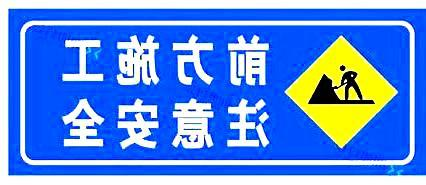sign: (12, 15, 418, 169)
